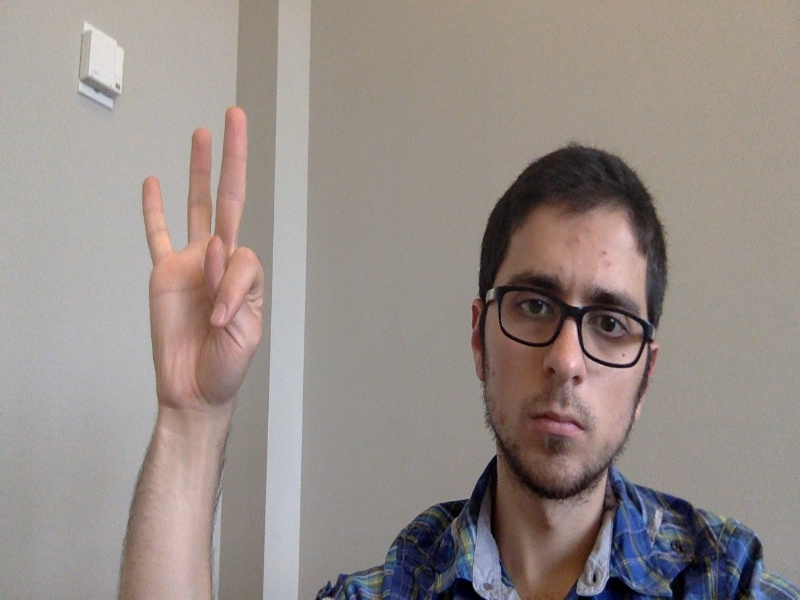3-hand: (139, 104, 266, 421)
